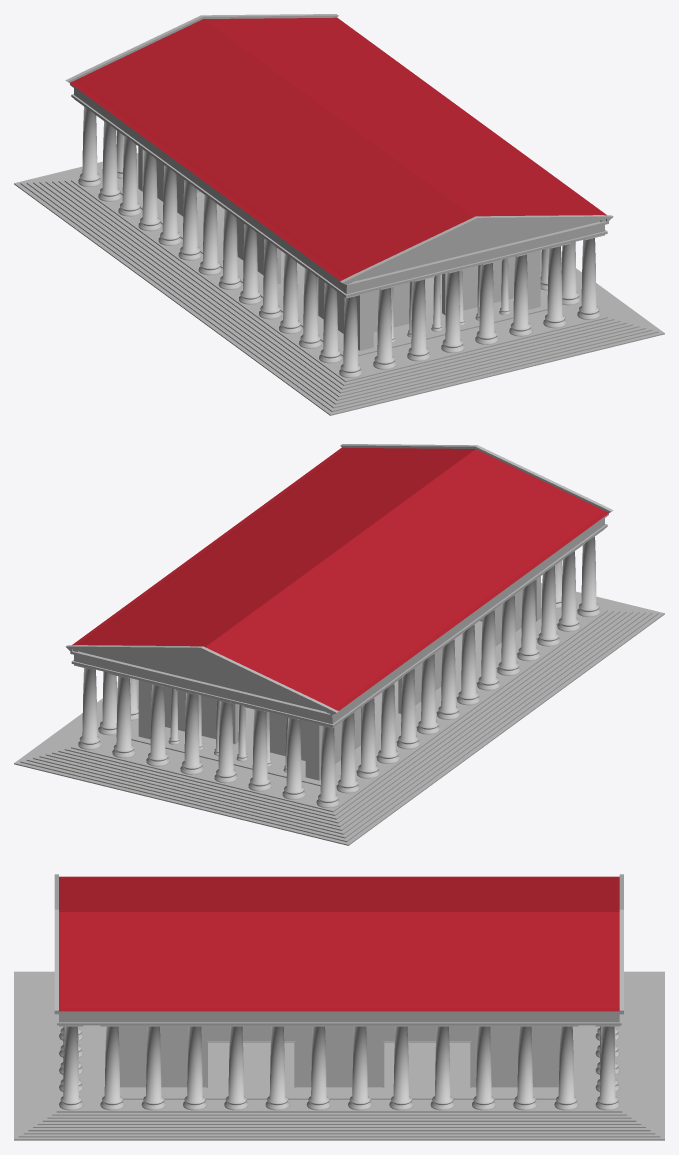
Rendered from Partenon.fbx.
3 renders of one model, top to bottom at view 1: azimuth 30°, elevation 25°; view 2: azimuth 150°, elevation 25°; view 3: azimuth 270°, elevation 25°, orthographic. The views are drawn at different scales.
Visible parts, largest first — view 1: Dach, Schody, Kolumny Grube, Sciany, Elewacja, Kolumny Cienkie; view 2: Dach, Schody, Kolumny Grube, Sciany, Elewacja, Kolumny Cienkie; view 3: Dach, Schody, Kolumny Grube, Sciany.
Part boxes in pixels (<box>): Dach: <box>65,14,613,297</box>; Schody: <box>14,153,664,415</box>; Kolumny Grube: <box>74,99,604,377</box>; Sciany: <box>156,159,514,333</box>; Elewacja: <box>138,146,540,350</box>; Kolumny Cienkie: <box>390,258,510,342</box>; Dach: <box>65,444,613,727</box>; Schody: <box>14,583,664,845</box>; Kolumny Grube: <box>74,529,604,807</box>; Sciany: <box>164,589,522,763</box>; Elewacja: <box>138,576,540,780</box>; Kolumny Cienkie: <box>168,688,288,772</box>; Dach: <box>54,874,623,1025</box>; Schody: <box>14,971,664,1140</box>; Kolumny Grube: <box>59,1025,619,1110</box>; Sciany: <box>120,1025,558,1087</box>.
Bounding box in the file's own units: 33.94 × 13.84 × 55.6.
